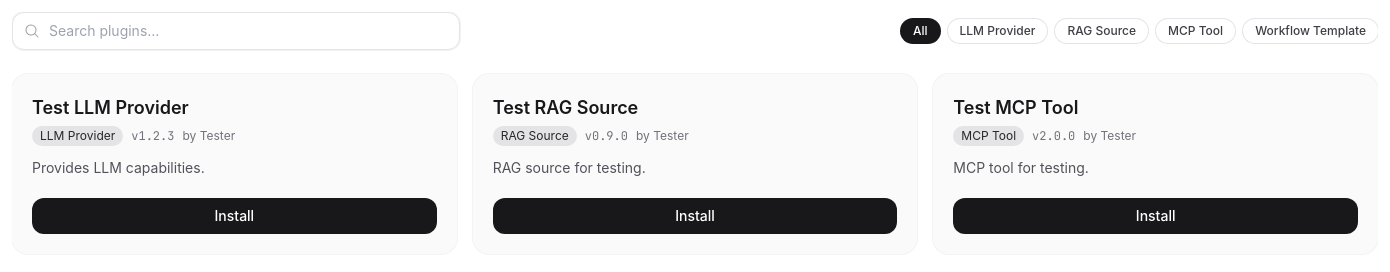
Test: MarketplacePanel › filters cards by search query
This screenshot has width=1390, height=272.
In the search field with test id "marketplace-search": (236,31) [12,12,460,50], type "LLM"
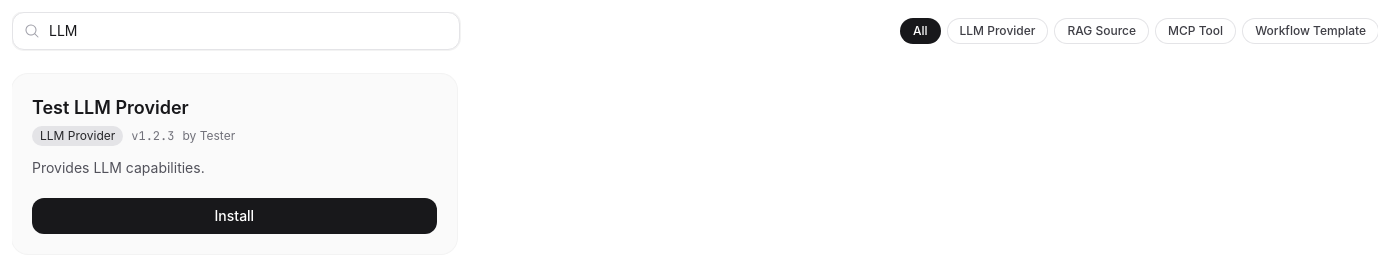
Expected: the element with test id "plugin-card-plugin-llm" is shown, [12,74,457,254]
Now the element with test id "plugin-card-plugin-rag" is gone
Now the element with test id "plugin-card-plugin-mcp" is gone
